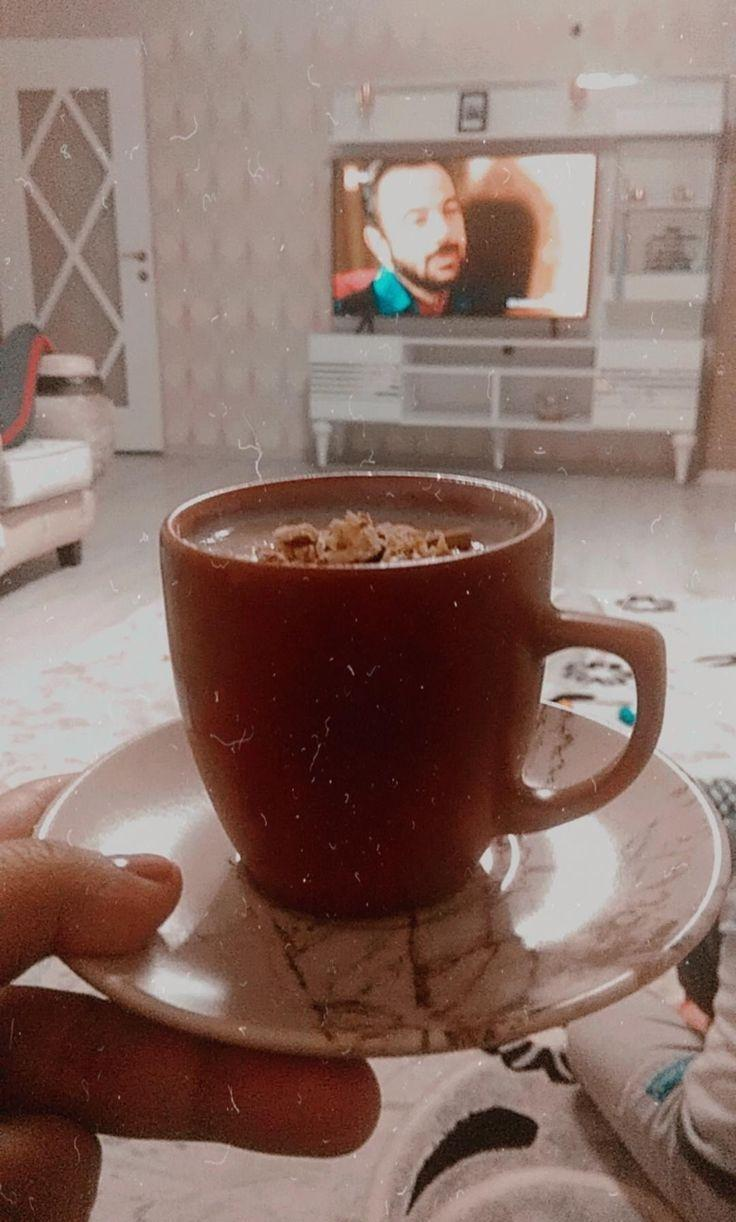cup-handle: (156, 466, 664, 923)
